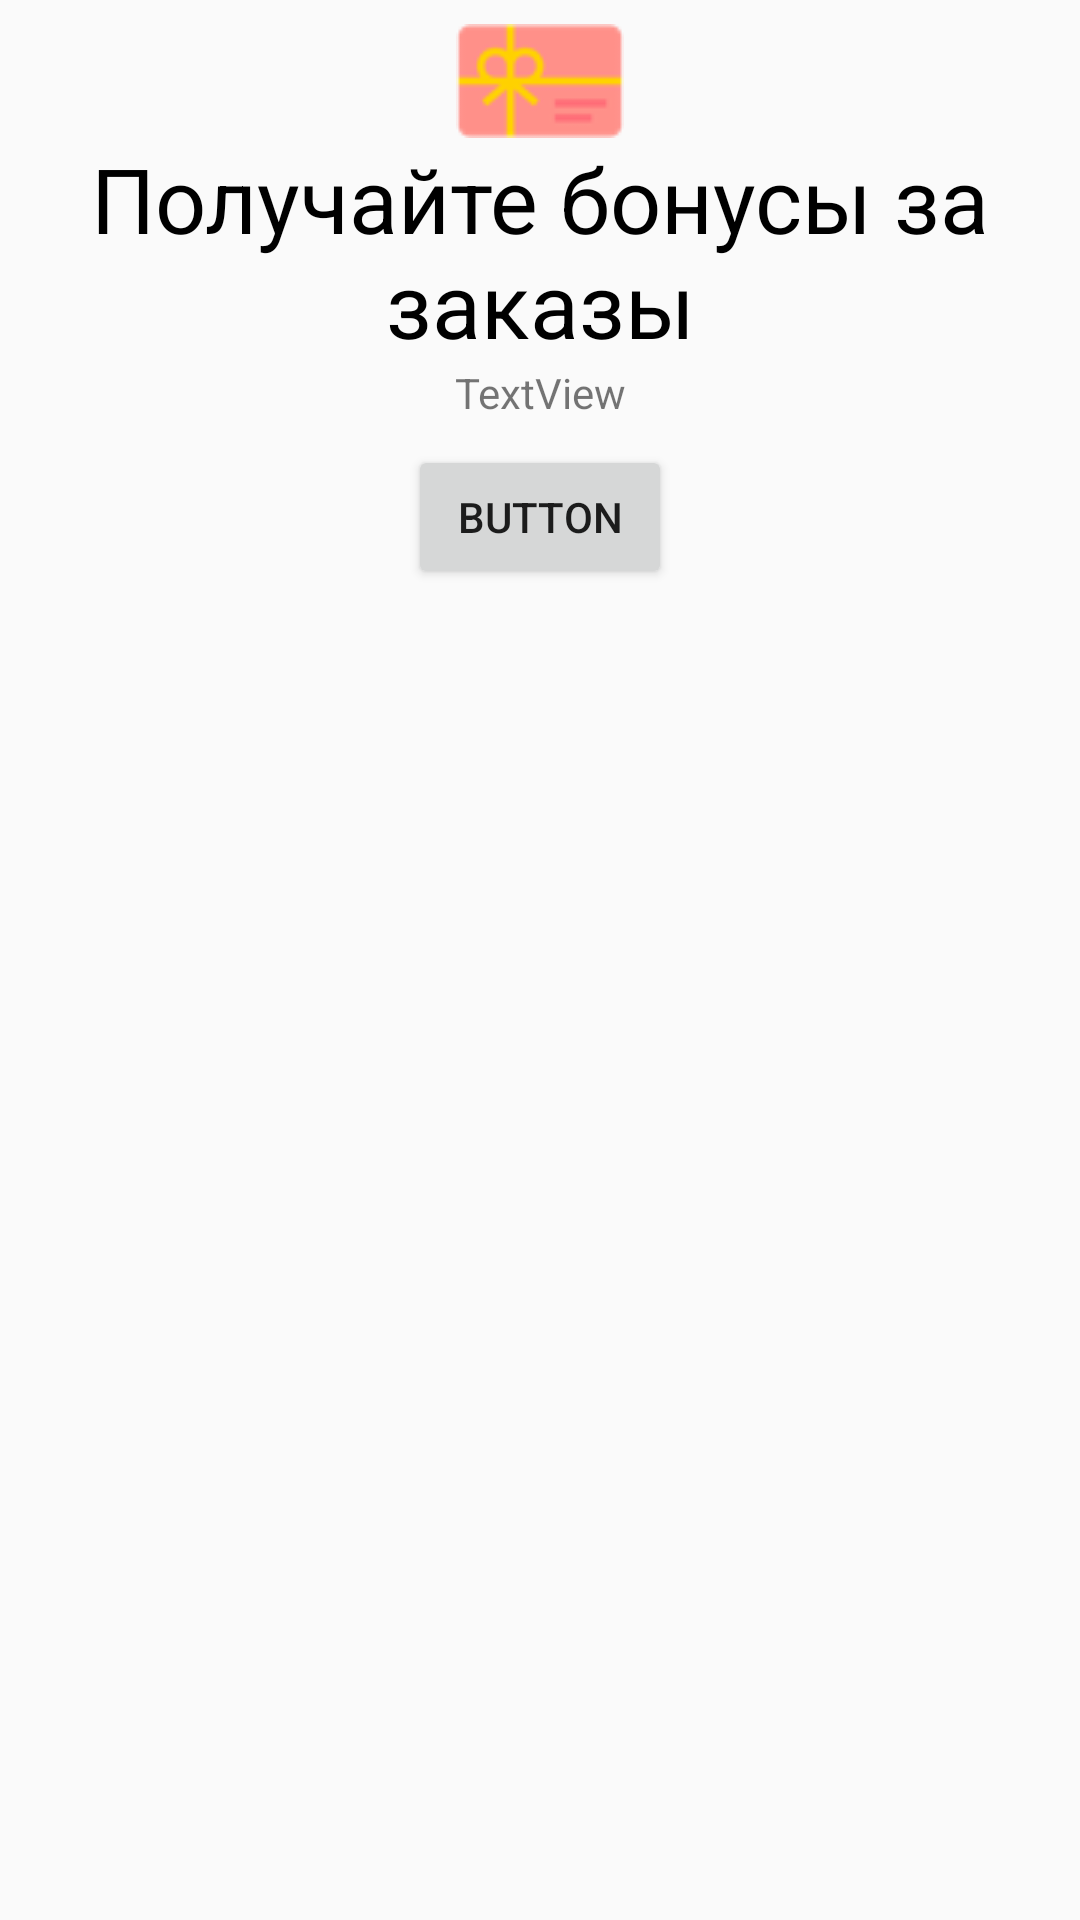

Named icons in this screenshot (1080×1920) and their bounding boxes, (x1, y1, x2, y2):
giftcard: (456, 24, 624, 138)
